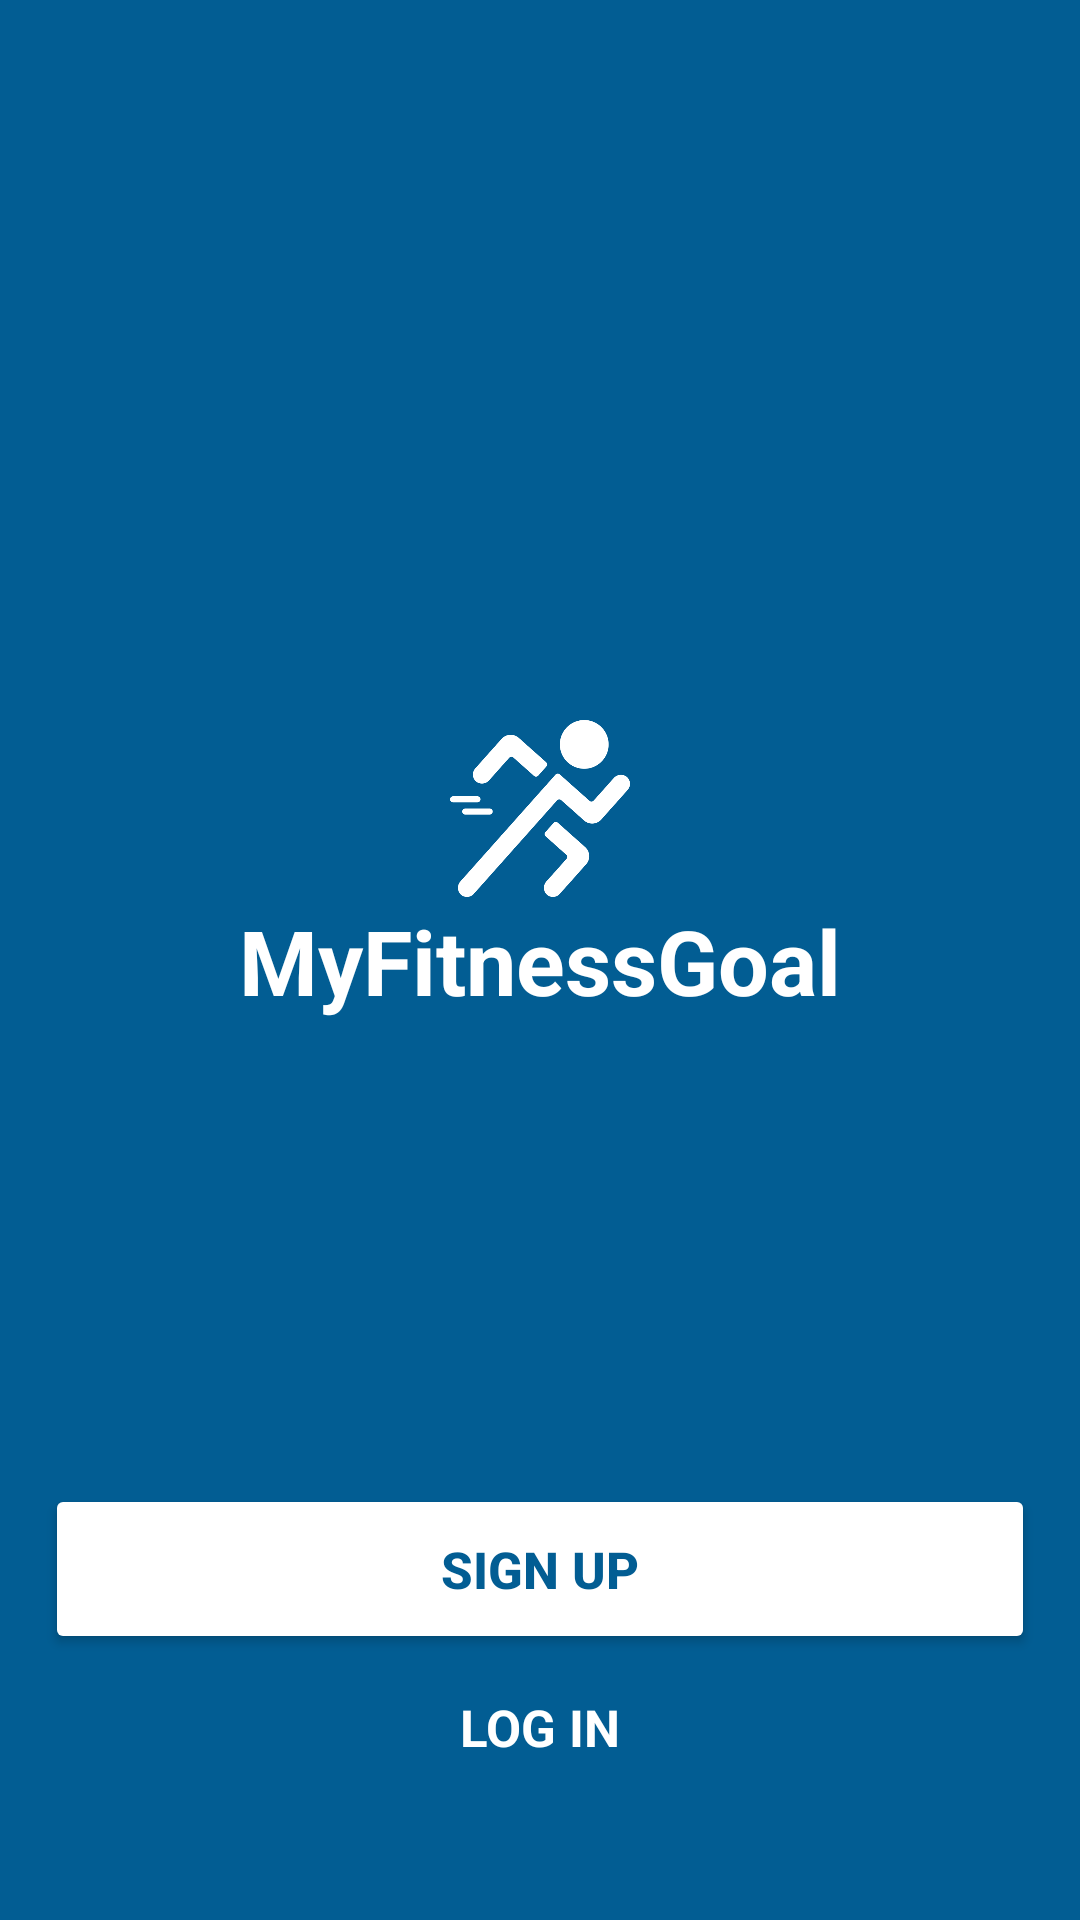

Icon click points for this 1080*1920 phone screenshot, format [x,y]:
speed: [540,808]
